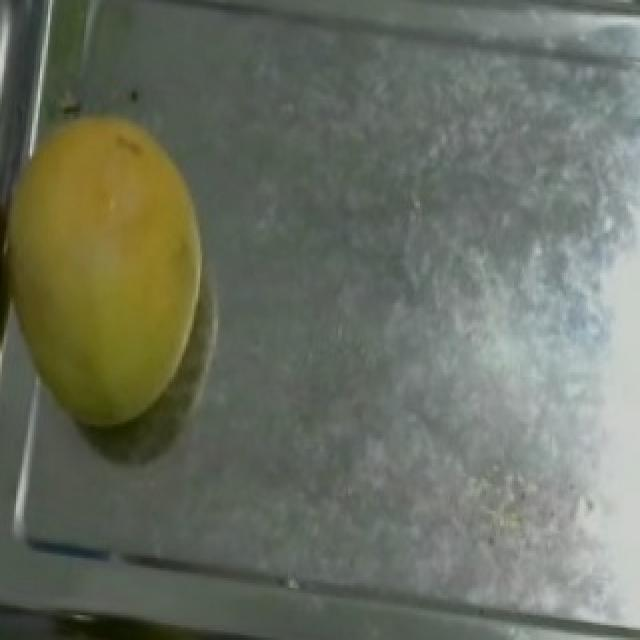fruit: (0, 92, 230, 461)
